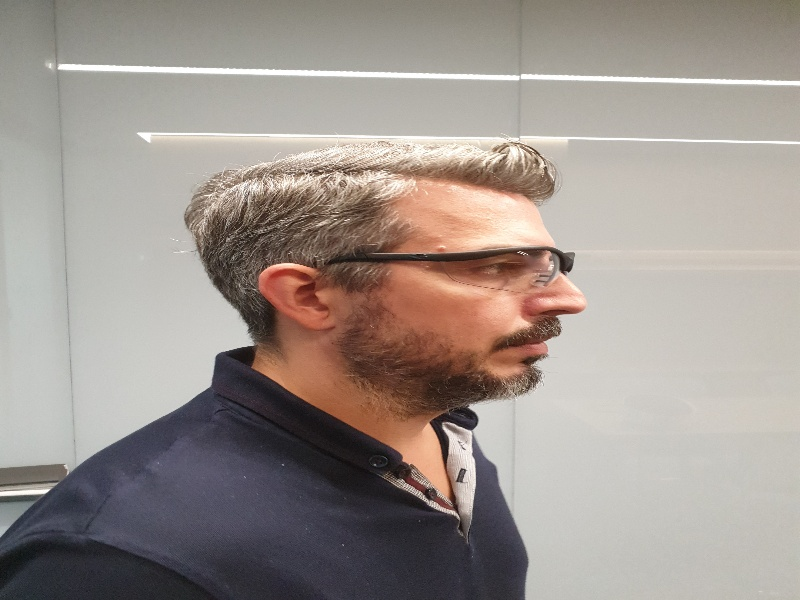Gozluk: (308, 244, 579, 287)
